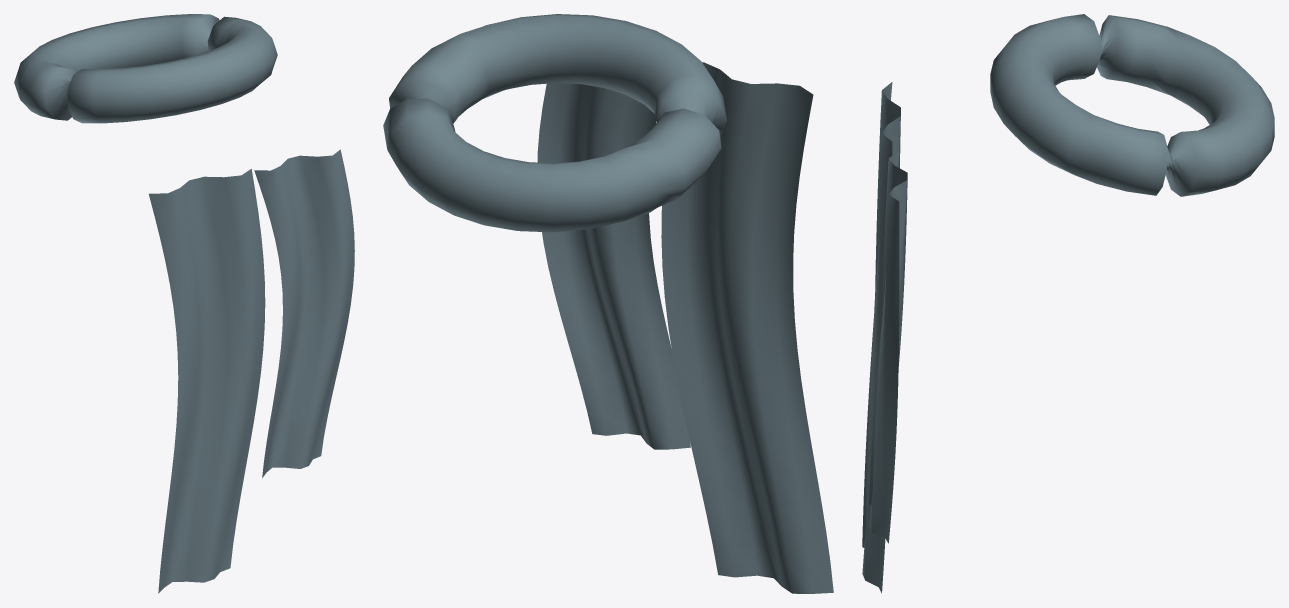
File: scarf.glb
3 renders of one model, left to right at view 1: azimuth 30°, elevation 25°; view 2: azimuth 150°, elevation 25°; view 3: azimuth 270°, elevation 25°, orthographic. The views are drawn at different scales.
Visible parts, largest first — view 1: ScarfTailLeft, ScarfCollar, ScarfTailRight; view 2: ScarfTailLeft, ScarfCollar, ScarfTailRight; view 3: ScarfCollar, ScarfTailRight, ScarfTailLeft.
Boxes of the visible parts, x1,y1,x2,y2 form: ScarfTailLeft: [149, 169, 265, 593]; ScarfCollar: [14, 14, 277, 123]; ScarfTailRight: [254, 149, 354, 478]; ScarfTailLeft: [661, 62, 833, 593]; ScarfCollar: [383, 14, 727, 232]; ScarfTailRight: [537, 83, 690, 449]; ScarfCollar: [990, 14, 1274, 196]; ScarfTailRight: [869, 151, 907, 543]; ScarfTailLeft: [862, 82, 900, 593].
Size of the model in its own units: 0.2368 by 0.449 by 0.3041.
